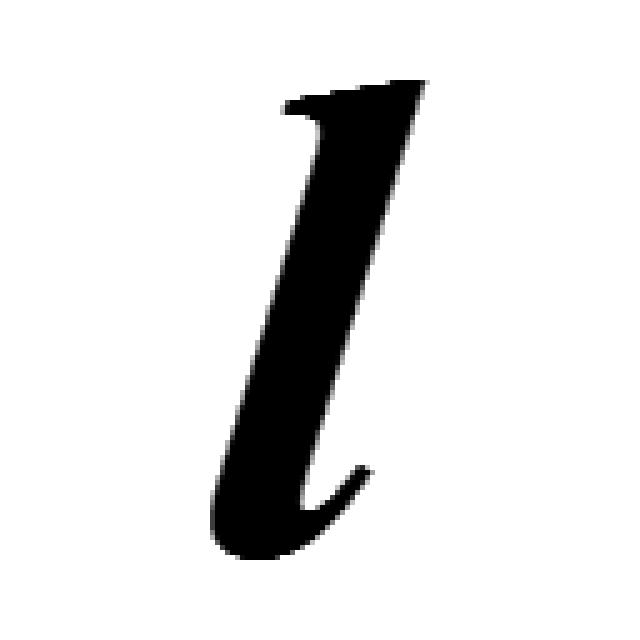L: (190, 72, 424, 553)
